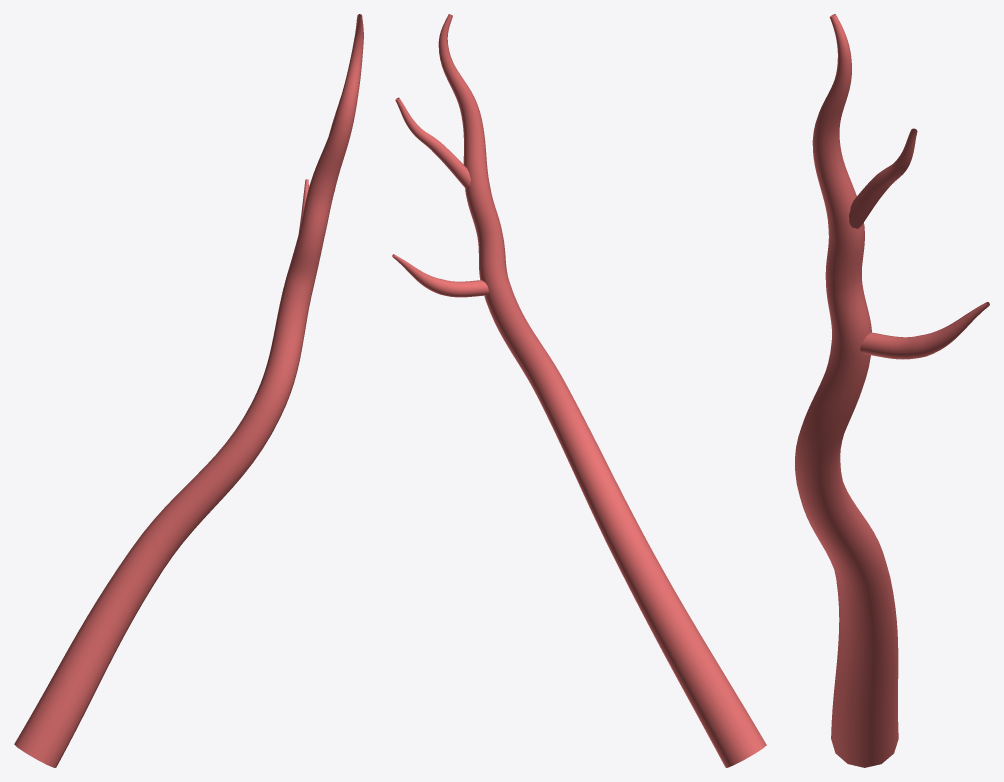
Rendered from Posterior_deep_temporal_artery.l_BezierCurve.085.glb.
The picture shows the model from 3 angles, left to right: view 1: azimuth 30°, elevation 25°; view 2: azimuth 150°, elevation 25°; view 3: azimuth 270°, elevation 25°; orthographic projection. The views are drawn at different scales.
Visible parts, largest first — view 1: Posterior_deep_temporal_artery.l_BezierCurve.085; view 2: Posterior_deep_temporal_artery.l_BezierCurve.085; view 3: Posterior_deep_temporal_artery.l_BezierCurve.085.
Part boxes in pixels (x1,y1,x2,y2): Posterior_deep_temporal_artery.l_BezierCurve.085: (14,14,363,767); Posterior_deep_temporal_artery.l_BezierCurve.085: (392,14,766,767); Posterior_deep_temporal_artery.l_BezierCurve.085: (795,14,989,767).
Size of the model in its own units: 0.0255 by 0.0467 by 0.00864.
